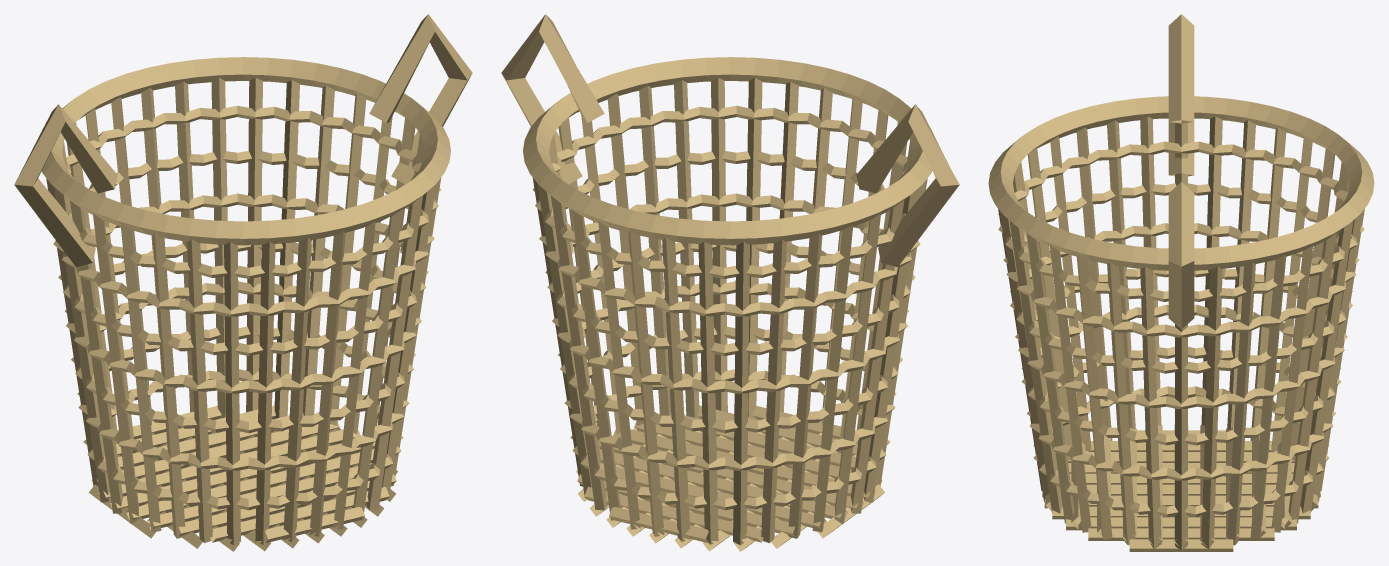
3 renders of one model, left to right at view 1: azimuth 30°, elevation 25°; view 2: azimuth 150°, elevation 25°; view 3: azimuth 270°, elevation 25°, orthographic. The views are drawn at different scales.
Parts seen in each view (by area): view 1: BA-0022 batched; view 2: BA-0022 batched; view 3: BA-0022 batched.
Boxes of the visible parts, x1,y1,x2,y2 form: BA-0022 batched: (14, 14, 472, 551); BA-0022 batched: (501, 14, 959, 551); BA-0022 batched: (988, 14, 1374, 551).
Size of the model in its own units: 0.844 by 0.756 by 0.662.
